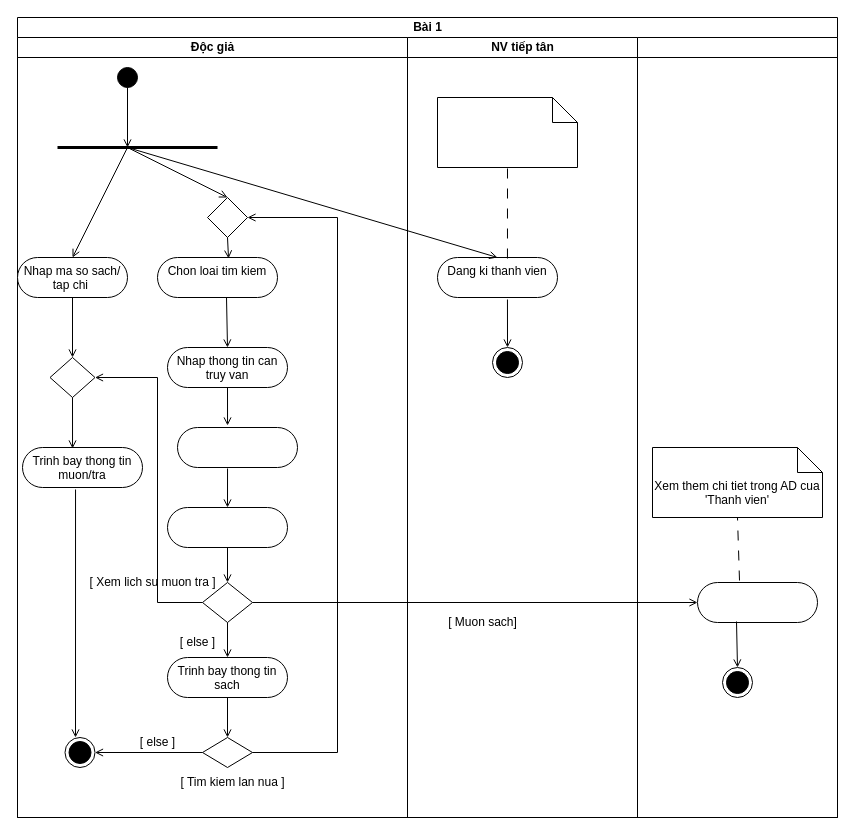
Image size: 855x835. Some labels were removed from this diagram. The shapes that lost their labels are listed below. From the top down, each one's box as (x1, y1, x2, y2) in pixels, then its label:
(436, 96, 578, 168): Xem them chi tiet trong AD cua 'NV tiep tan'
(176, 426, 298, 468): Liet ke danh sach ket qua
(636, 36, 838, 818): Thành viên
(166, 506, 288, 548): Chon 1 thanh phan
(696, 582, 818, 622): Xu ly muon sach
